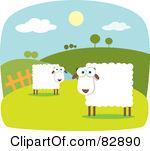sheep: (75, 61, 140, 119), (28, 62, 66, 96)
